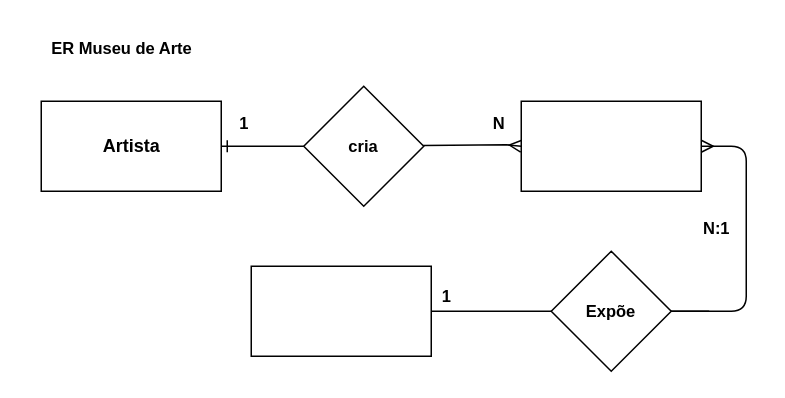
Some shapes in this 785 by 398 pixel diagram are drawn without their labels. Here are the shapes that lost their labels. From the top down, the centre of each, then its label:
the point at 610,145: Obras de Arte
the point at 340,310: Galeria
